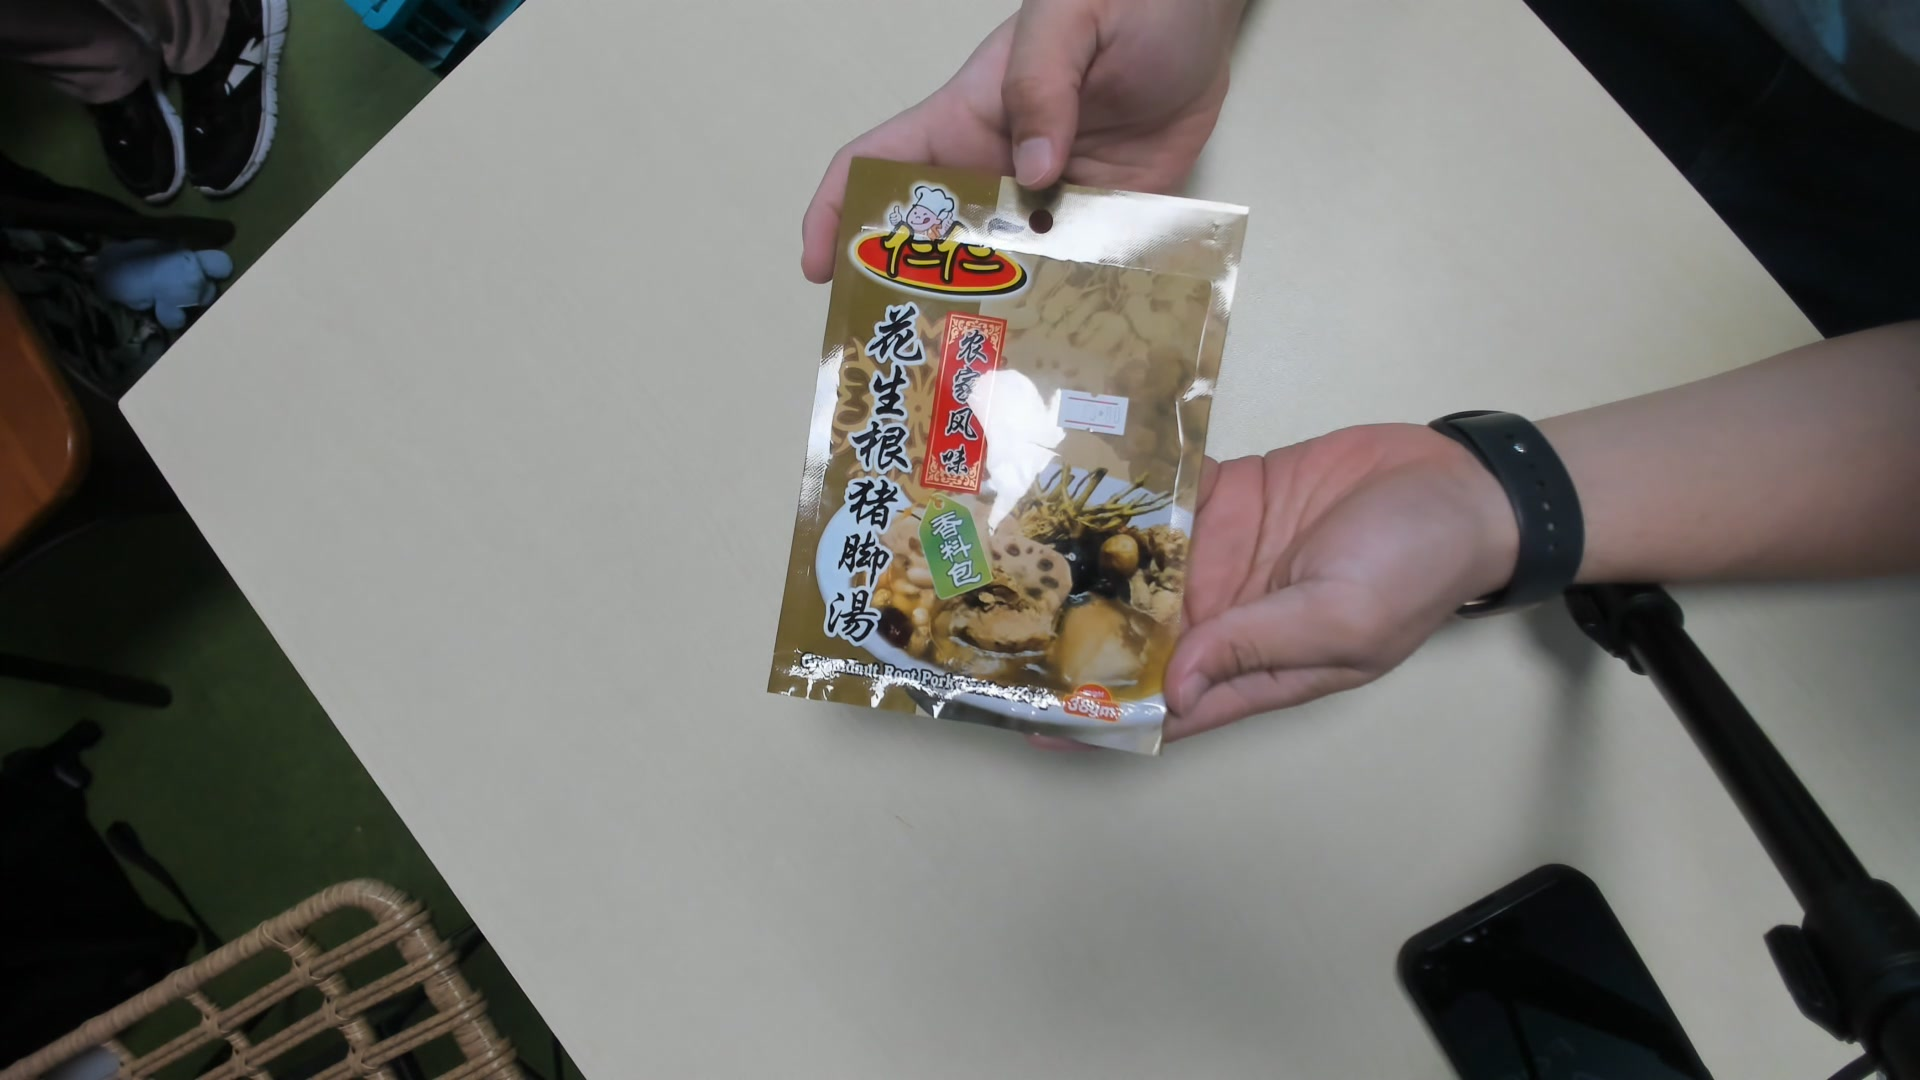OtherSauceDressing_0-99g_NonHalal_NonHealthy: (767, 131, 1251, 775)
